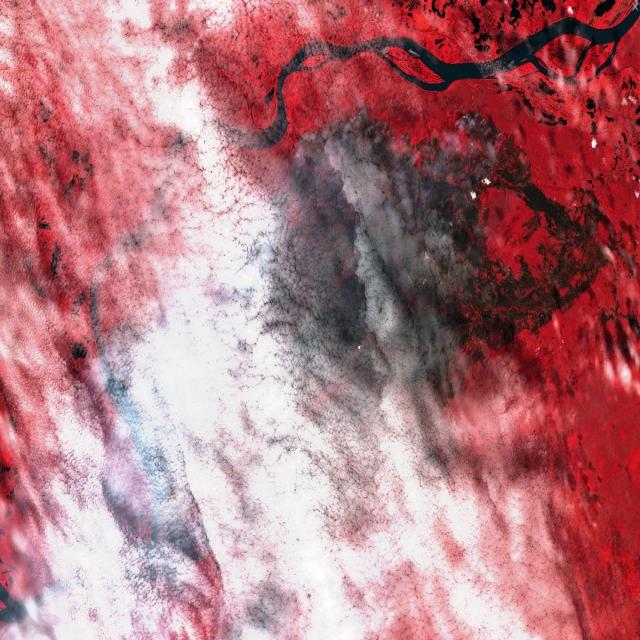fire: (283, 104, 446, 184), (451, 98, 528, 170)
